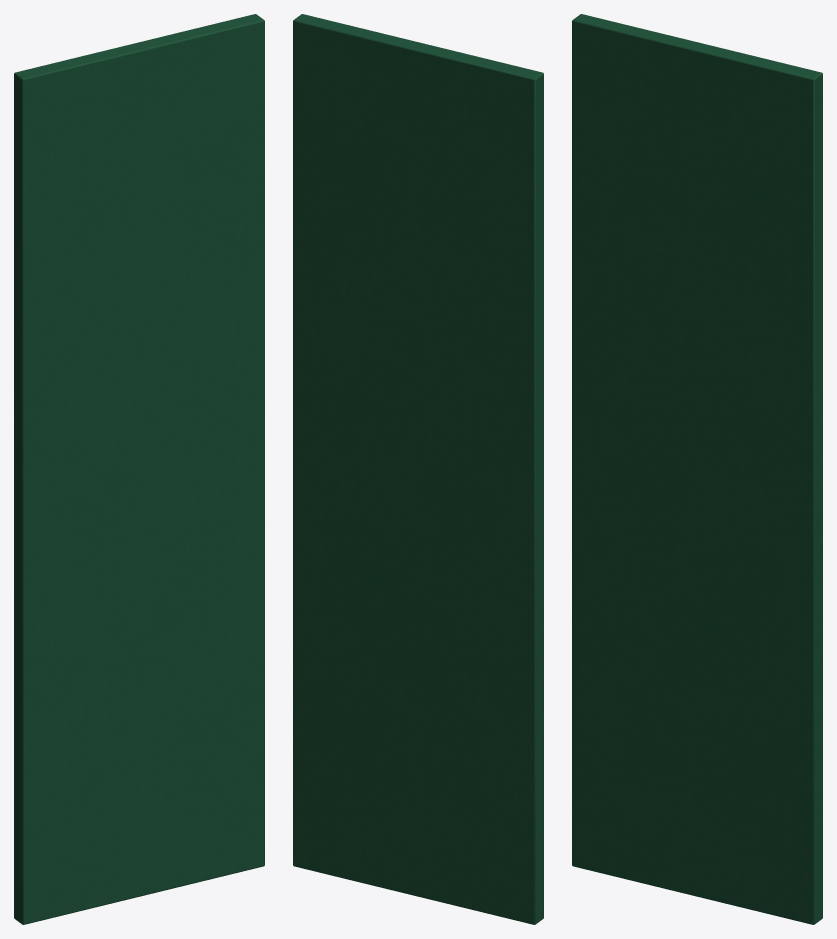
File: camera_mount_pcb_green.obj
3 renders of one model, left to right at view 1: azimuth 30°, elevation 25°; view 2: azimuth 150°, elevation 25°; view 3: azimuth 330°, elevation 25°, orthographic.
Visible parts, largest first — view 1: camera_mount__kinect_logic_board_provisional; view 2: camera_mount__kinect_logic_board_provisional; view 3: camera_mount__kinect_logic_board_provisional.
Boxes of the visible parts, x1,y1,x2,y2 form: camera_mount__kinect_logic_board_provisional: (14, 14, 264, 924); camera_mount__kinect_logic_board_provisional: (293, 14, 543, 924); camera_mount__kinect_logic_board_provisional: (572, 14, 822, 924).
Bounding box in the file's own units: 0.045 × 0.15 × 0.003.
Materials: 1 (1 with a texture image).
